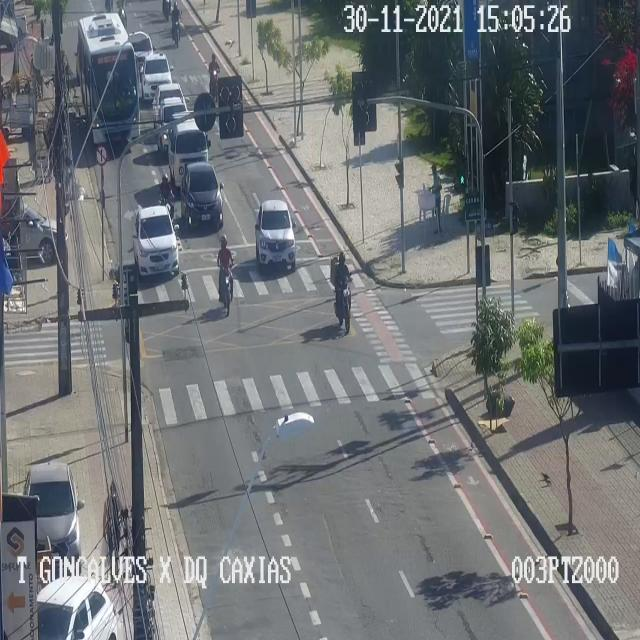Bus: (77, 12, 139, 142)
Car: (24, 463, 80, 572), (36, 575, 117, 639), (132, 204, 178, 274), (168, 112, 208, 186), (18, 204, 68, 262), (180, 161, 222, 226), (255, 199, 295, 267), (158, 97, 188, 151), (152, 83, 186, 125), (142, 53, 172, 99), (126, 33, 158, 76)
Motorcycle: (330, 252, 352, 332), (218, 234, 234, 314), (158, 173, 174, 226), (208, 53, 220, 103), (159, 0, 173, 26), (172, 1, 180, 46)
